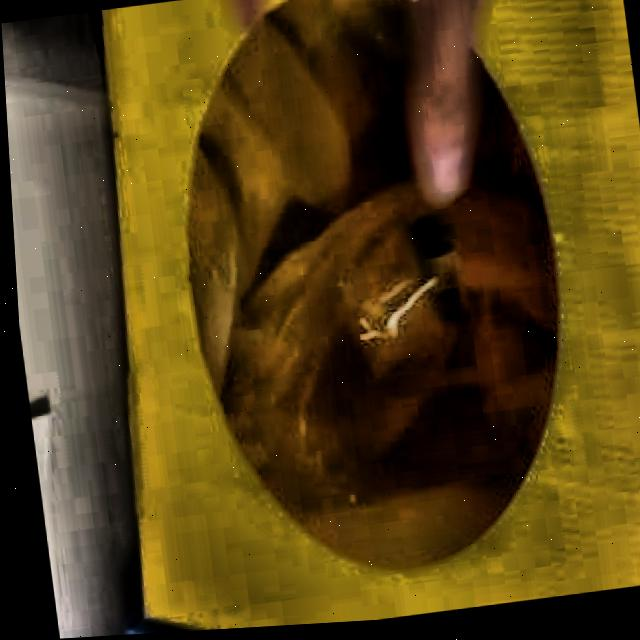plastic: (335, 221, 455, 383)
